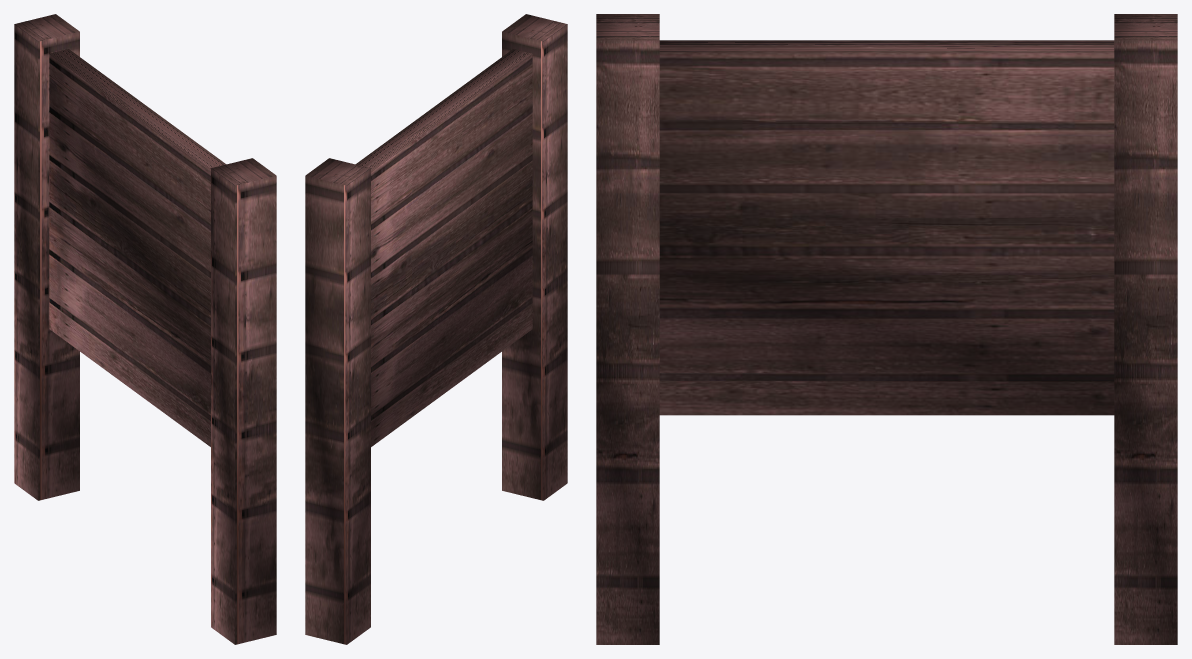
The model's file is CercaQuadrada2.fbx.
The picture shows the model from 3 angles, left to right: view 1: azimuth 30°, elevation 25°; view 2: azimuth 150°, elevation 25°; view 3: azimuth 270°, elevation 25°; orthographic projection. The views are drawn at different scales.
Visible parts, largest first — view 1: CercaQuadrada; view 2: CercaQuadrada; view 3: CercaQuadrada.
Boxes of the visible parts, x1,y1,x2,y2 form: CercaQuadrada: [14, 14, 276, 644]; CercaQuadrada: [305, 14, 567, 644]; CercaQuadrada: [596, 14, 1177, 644].
Size of the model in its own units: 12.32 by 113 by 130.
